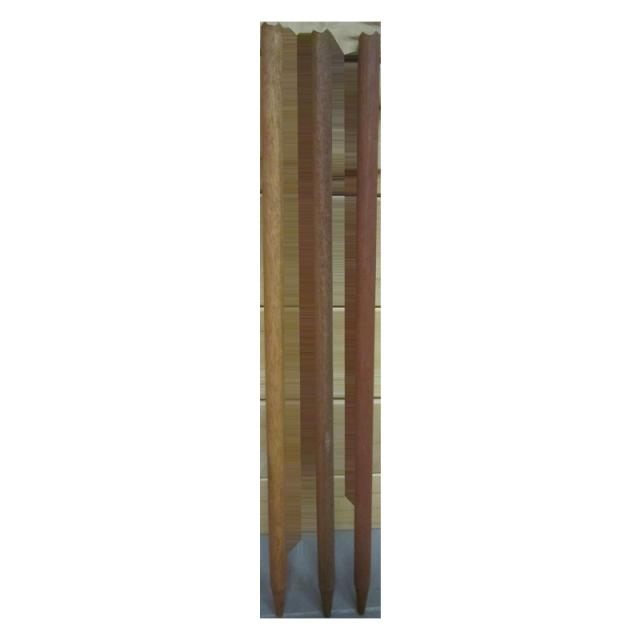stump: (262, 24, 380, 620)
